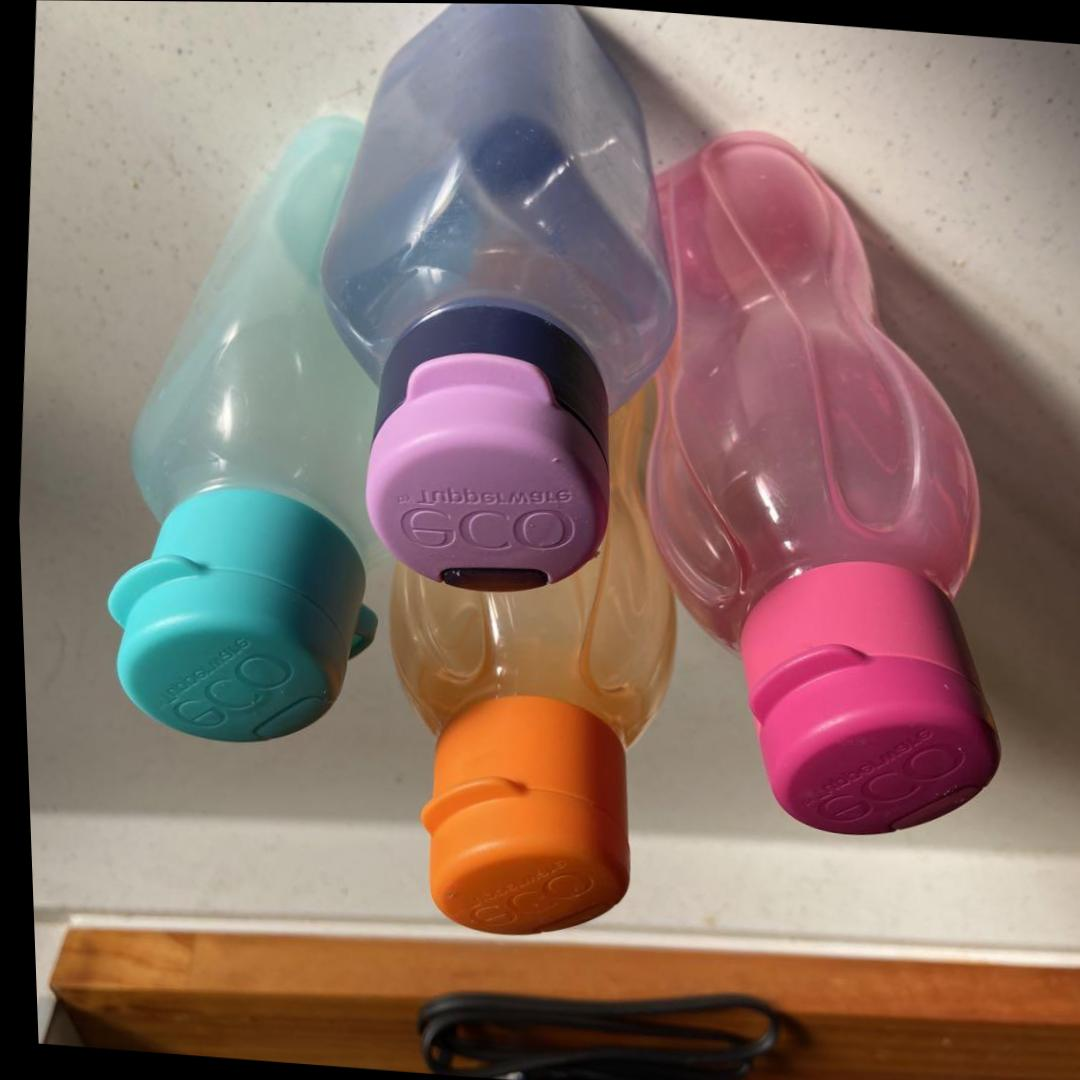plastic: (3, 3, 1079, 1079)
